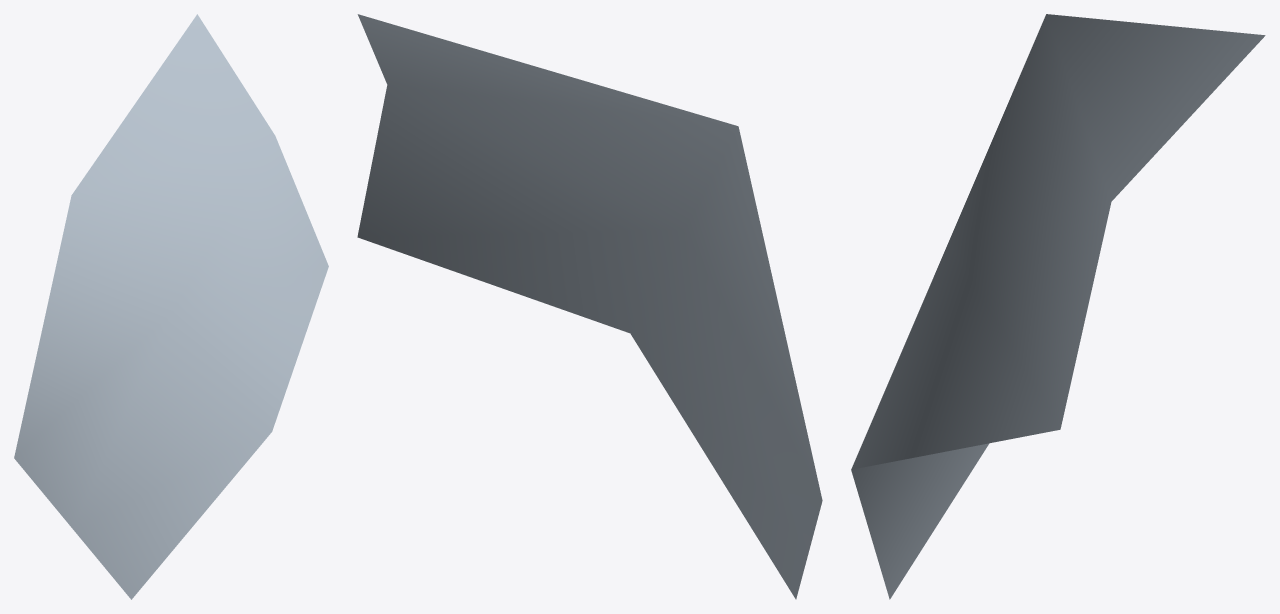
Rendered from anterior-sternoclavicular-ligament-l.glb.
The picture shows the model from 3 angles, left to right: view 1: azimuth 30°, elevation 25°; view 2: azimuth 150°, elevation 25°; view 3: azimuth 270°, elevation 25°; orthographic projection. The views are drawn at different scales.
Parts seen in each view (by area): view 1: Anterior sternoclavicular ligament.l; view 2: Anterior sternoclavicular ligament.l; view 3: Anterior sternoclavicular ligament.l.
Boxes of the visible parts, x1,y1,x2,y2 form: Anterior sternoclavicular ligament.l: [14, 14, 328, 599]; Anterior sternoclavicular ligament.l: [357, 14, 822, 599]; Anterior sternoclavicular ligament.l: [851, 14, 1265, 599].
Bounding box in the file's own units: 0.0161 × 0.0218 × 0.0116.
